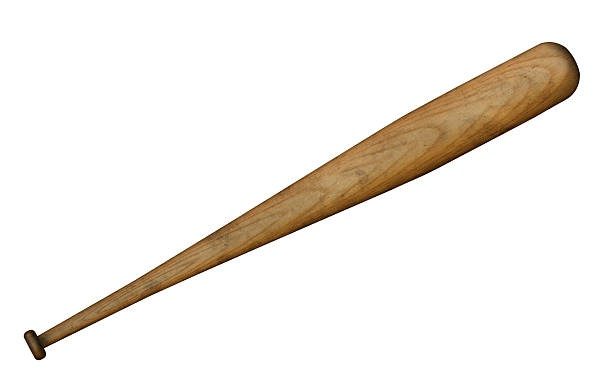bita: (20, 45, 579, 362)
